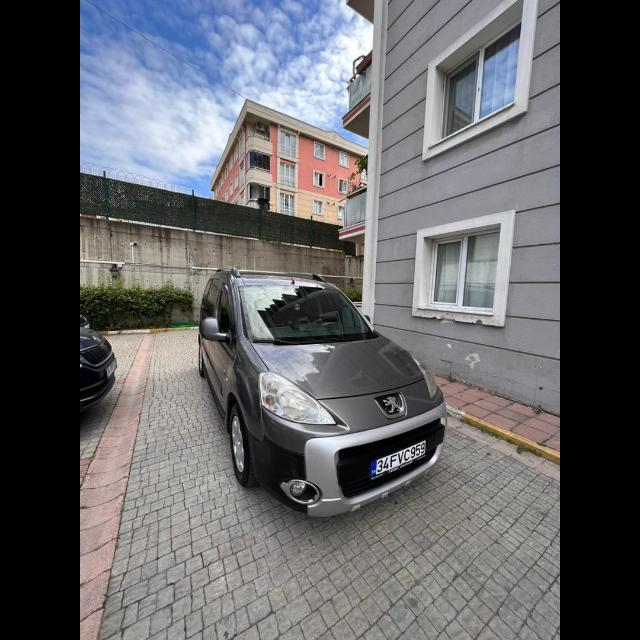Plaka: (372, 439, 428, 475)
